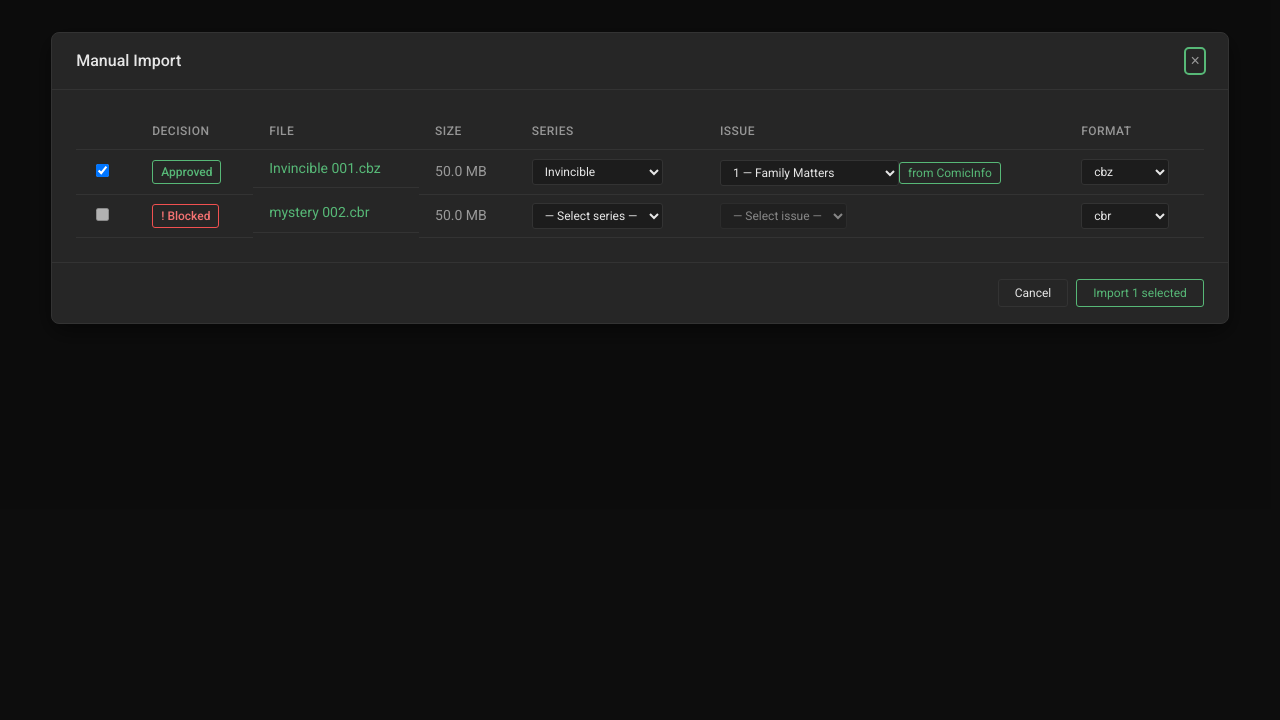
Test case: FRG-UI-014: manual import overlay › FRG-UI-014 — importing posts the corrected mappings; on completion the imported file leaves, still-blocked files re-render with updated reasons, and the queue r
Check: the row with test id "manual-row-Invincible 001.cbz" is shown, box [76,149,1204,194]
Click the button "Import 1 selected" at (1140, 293), box [1076,279,1204,307]
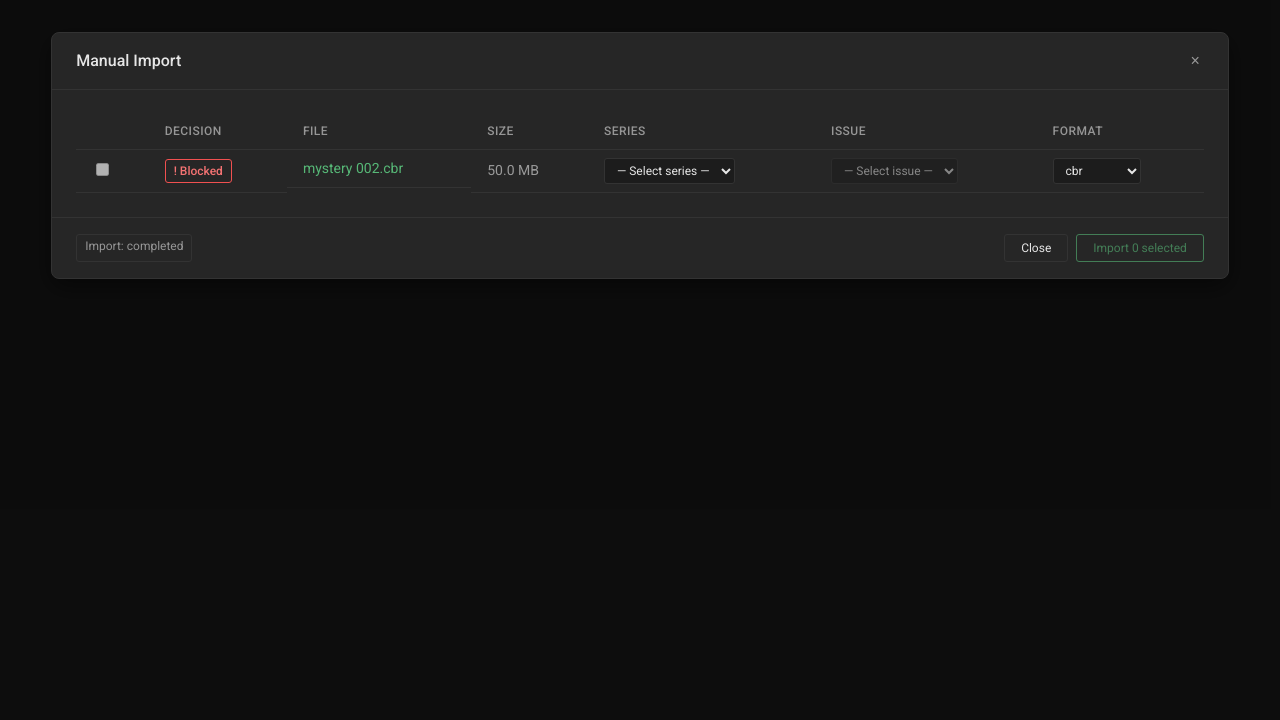
Click the button with aria-label "mystery 002.cbr — show reasons" at (198, 171), box [165,159,232,183]
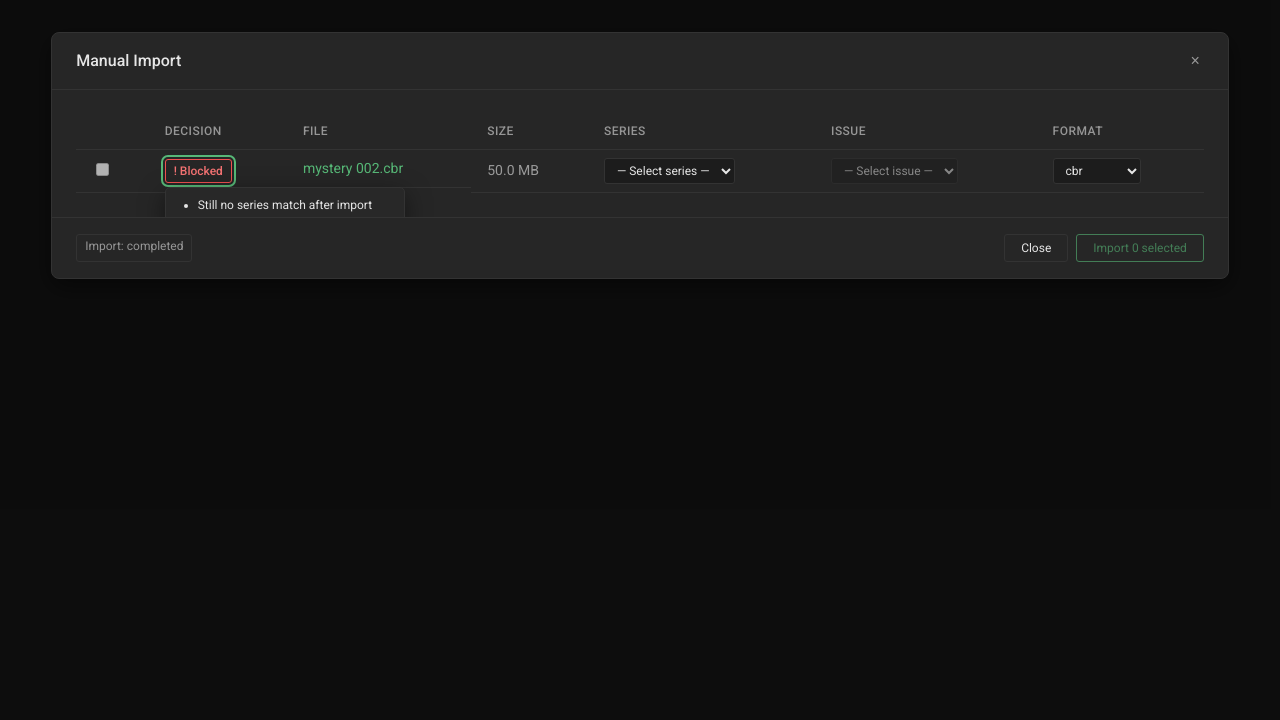
Check: the list item "Still no series match after import" is shown, box [198,196,388,214]
